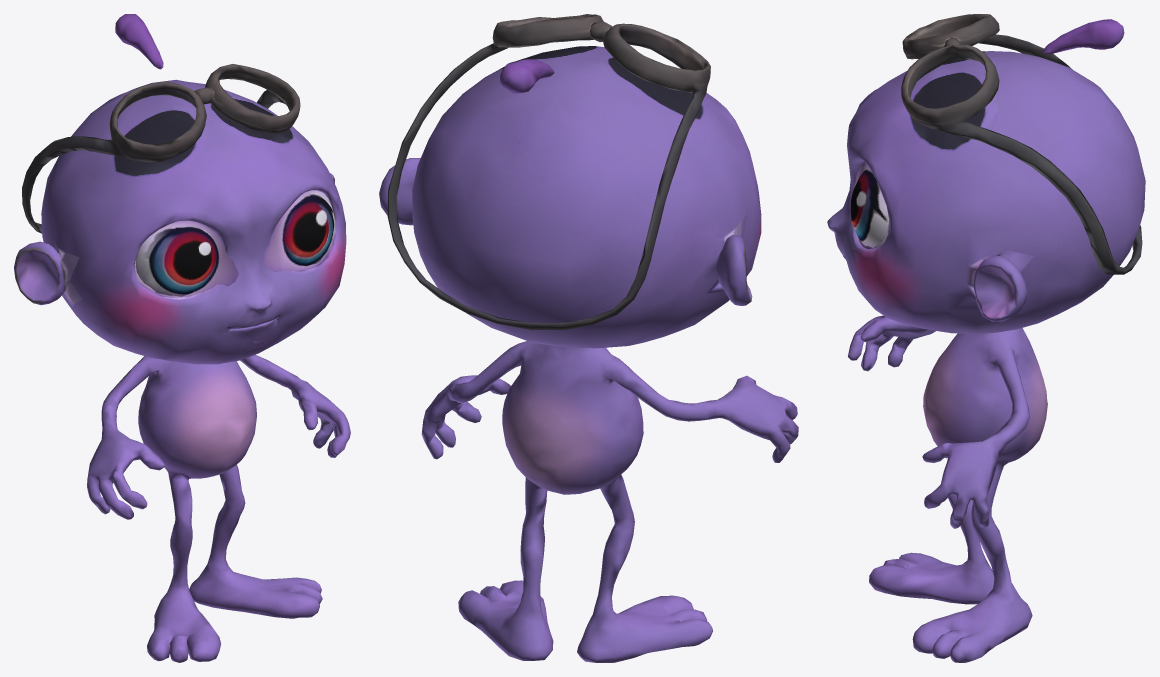
The model's file is Splat_Hero.fbx.
The picture shows the model from 3 angles, left to right: view 1: azimuth 30°, elevation 25°; view 2: azimuth 150°, elevation 25°; view 3: azimuth 270°, elevation 25°; orthographic projection. The views are drawn at different scales.
Visible parts, largest first — view 1: Mesh_0; view 2: Mesh_0; view 3: Mesh_0.
Boxes of the visible parts, bbox=[...] form: Mesh_0: bbox=[14, 14, 350, 662]; Mesh_0: bbox=[379, 14, 798, 662]; Mesh_0: bbox=[827, 14, 1145, 662].
Bounding box in the file's own units: 60.28 × 100 × 49.45.
Materials: 1 (1 with a texture image).
